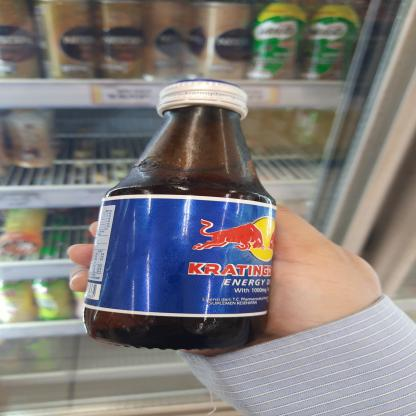bottle: (74, 77, 277, 355), (31, 0, 104, 86), (198, 1, 253, 80), (259, 0, 306, 88), (150, 0, 197, 87), (107, 1, 150, 89), (318, 2, 361, 85)
